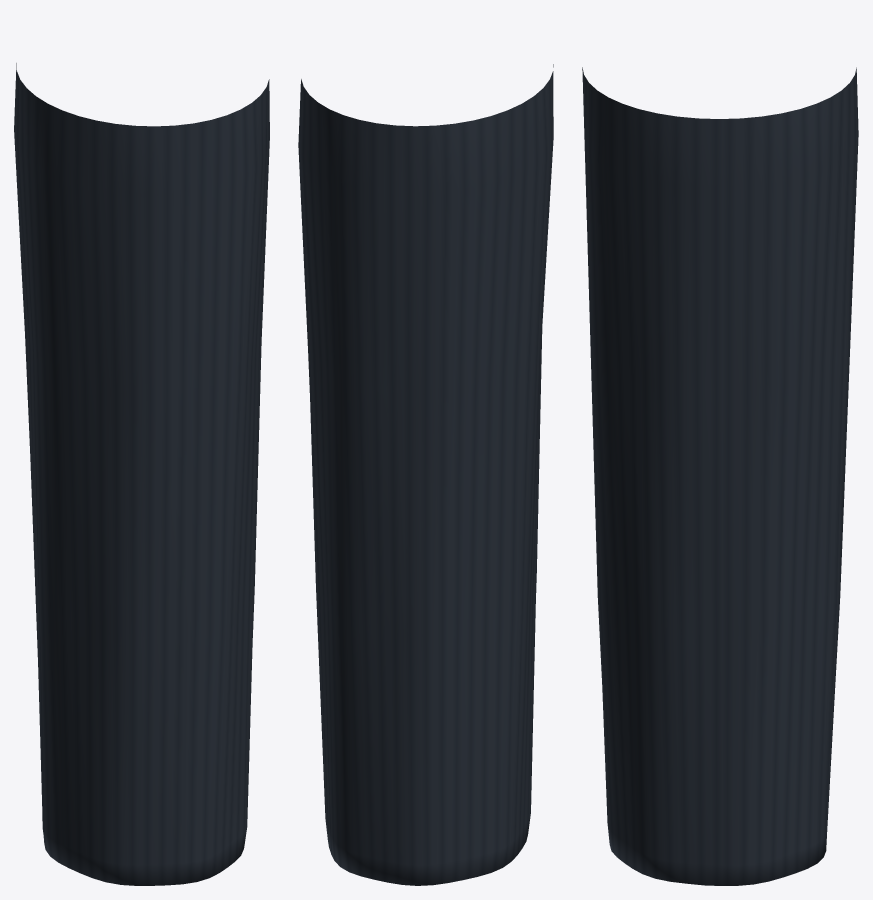
Rendered from reference_khaki_pants.gltf.
3 renders of one model, left to right at view 1: azimuth 30°, elevation 25°; view 2: azimuth 150°, elevation 25°; view 3: azimuth 270°, elevation 25°, orthographic.
Visible parts, largest first — view 1: LegL; view 2: LegL; view 3: LegL.
Boxes of the visible parts, <box> form: LegL: <box>14,63,269,885</box>; LegL: <box>298,64,553,885</box>; LegL: <box>582,67,858,885</box>.
Bounding box in the file's own units: 0.2182 × 0.749 × 0.2397.
1 material, 1 textured.
